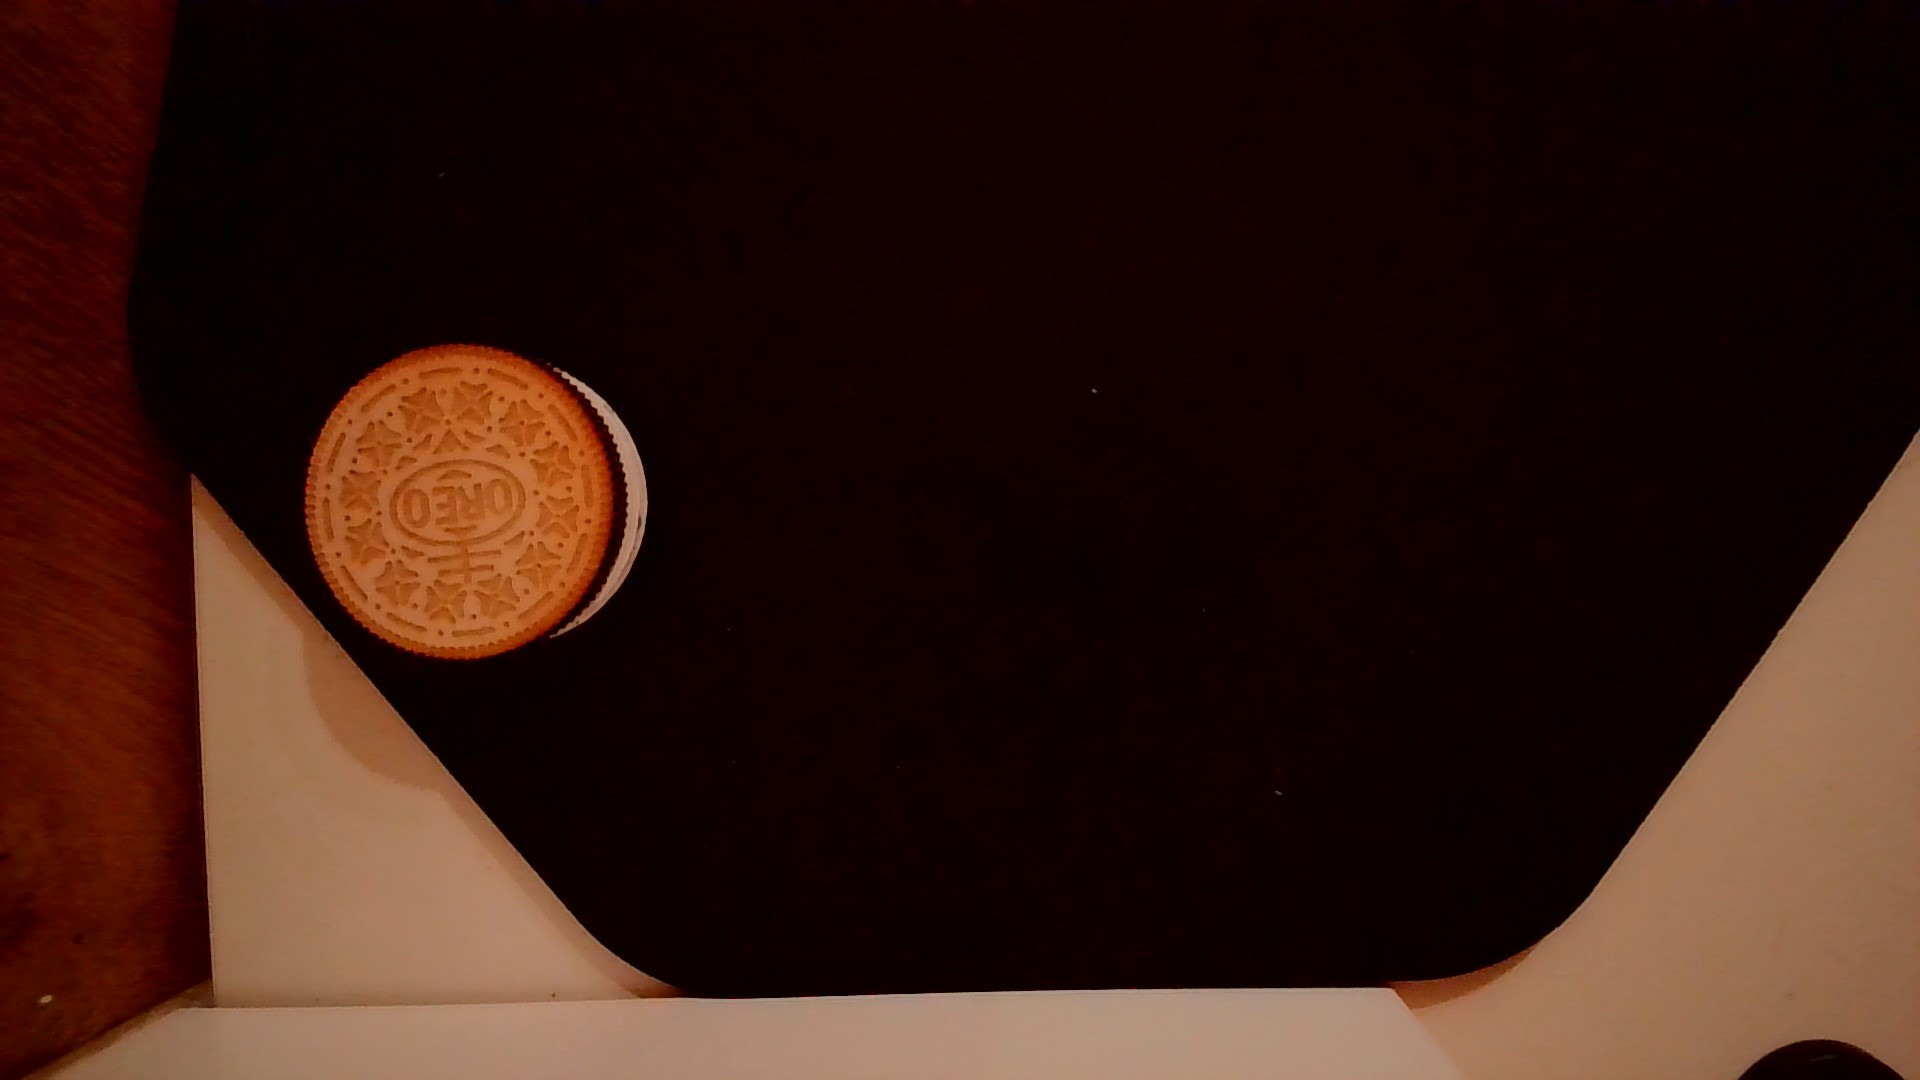Décalé: (546, 356, 663, 647)
Oréo: (293, 339, 653, 671)
